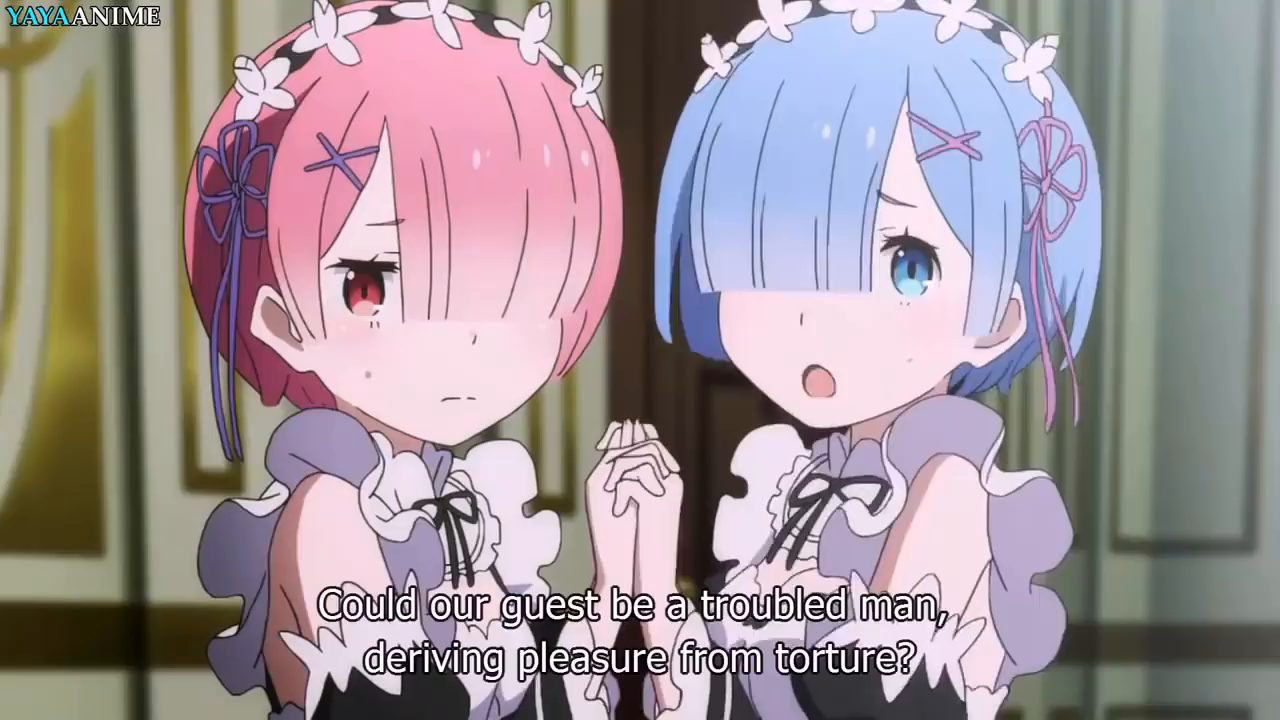REM: (645, 2, 1107, 433)
